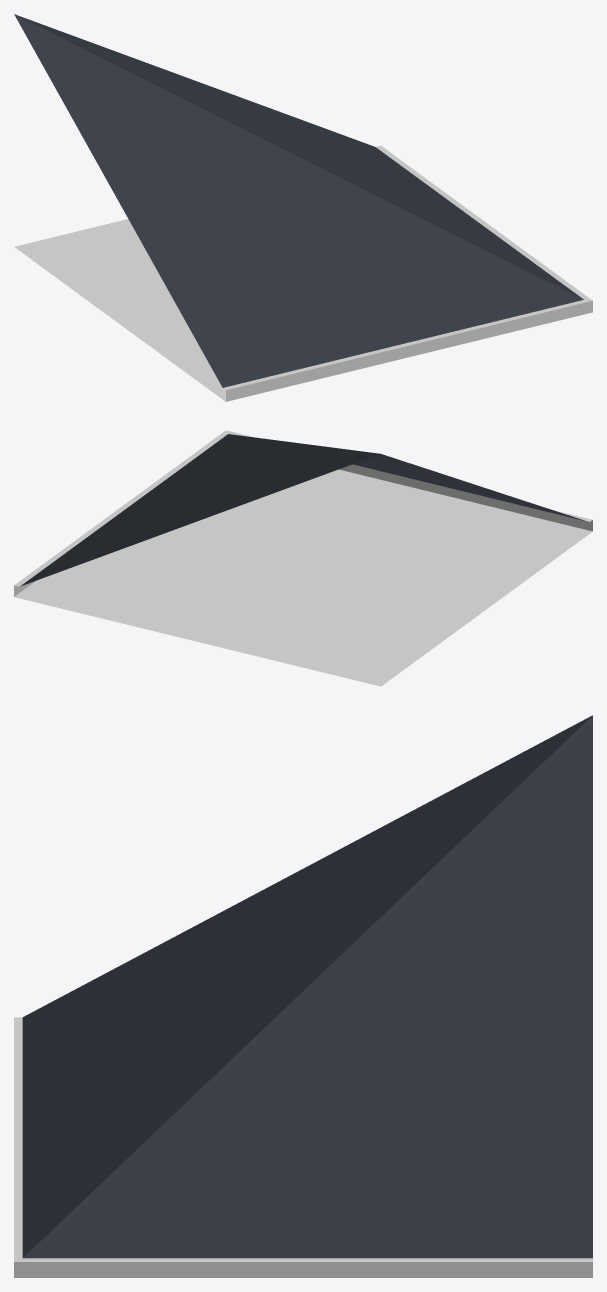
The model's file is SM_roof_03_corner.glb.
3 renders of one model, top to bottom at view 1: azimuth 30°, elevation 25°; view 2: azimuth 150°, elevation 25°; view 3: azimuth 270°, elevation 25°, orthographic. The views are drawn at different scales.
Parts seen in each view (by area): view 1: SM_roof_03_corner; view 2: SM_roof_03_corner; view 3: SM_roof_03_corner.
Part boxes in pixels (<box>): SM_roof_03_corner: <box>14,14,592,401</box>; SM_roof_03_corner: <box>14,430,592,686</box>; SM_roof_03_corner: <box>14,715,592,1277</box>.
Size of the model in its own units: 6.6 by 4 by 6.6.
Materials: 1 (1 with a texture image).
